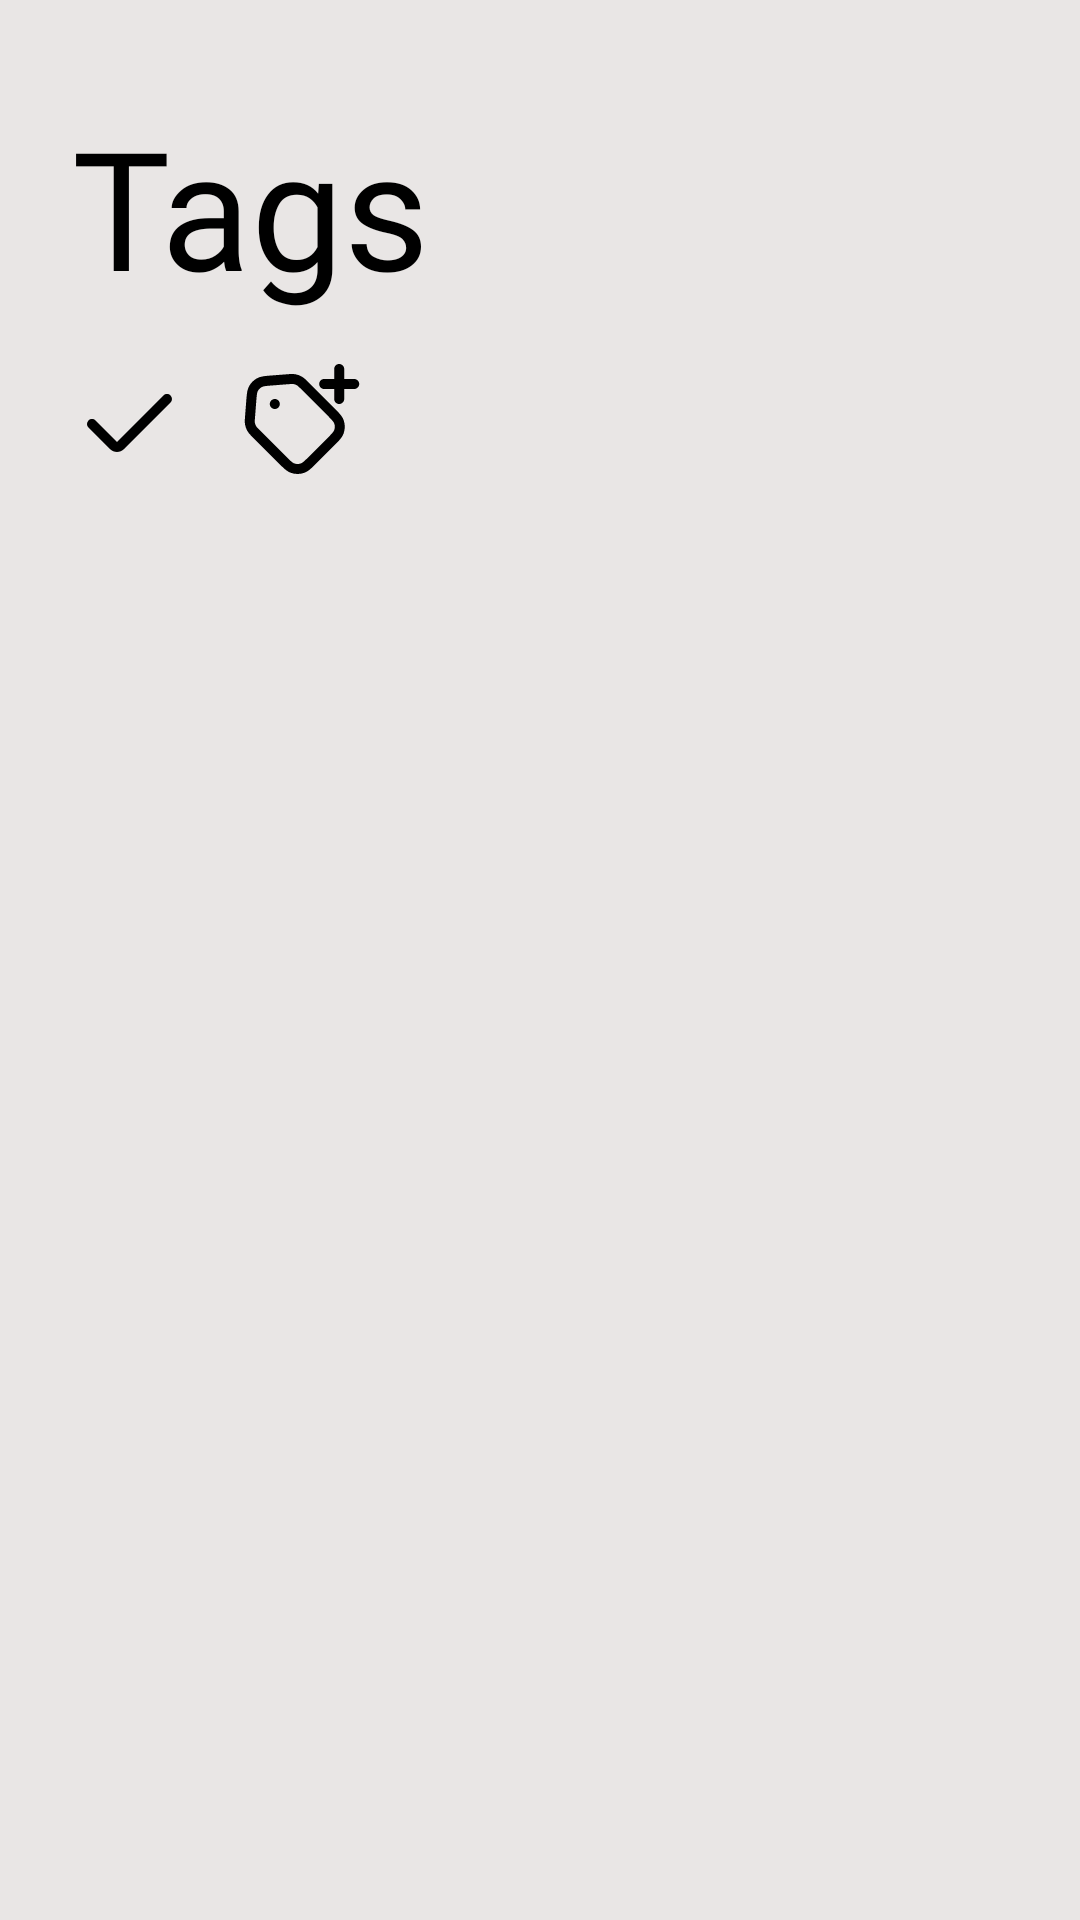

Named icons in this screenshot (1080*1920) and their centers, (x=x, y=y):
Icon confirm: (x=129, y=423)
Icon tag: (x=302, y=419)
